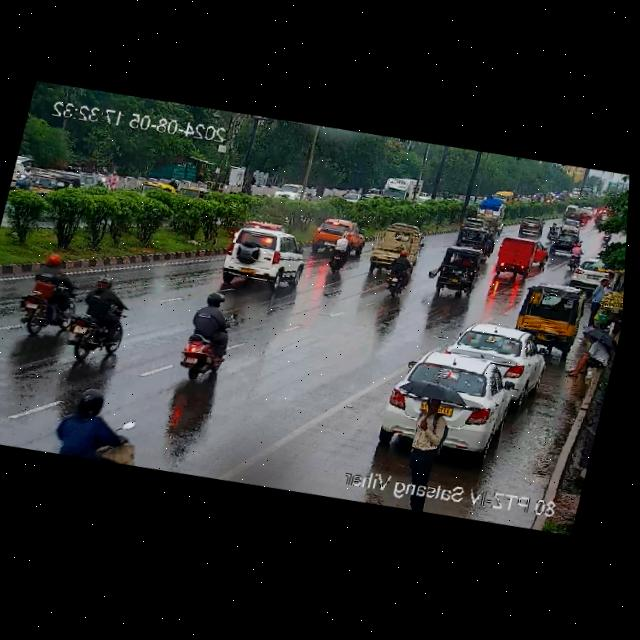car: (372, 341, 512, 461), (440, 318, 539, 411), (218, 220, 304, 288), (511, 276, 587, 346), (433, 243, 485, 296), (310, 213, 363, 251), (496, 235, 535, 279), (22, 172, 69, 208), (545, 228, 583, 257), (455, 227, 494, 253), (515, 212, 545, 239)
motorcycle: (50, 396, 146, 463), (67, 271, 136, 361), (174, 286, 238, 383), (18, 248, 83, 335), (379, 246, 415, 299), (324, 229, 355, 272)
person: (409, 387, 458, 486), (557, 333, 614, 388), (581, 276, 612, 327)
truck: (368, 216, 426, 276)
